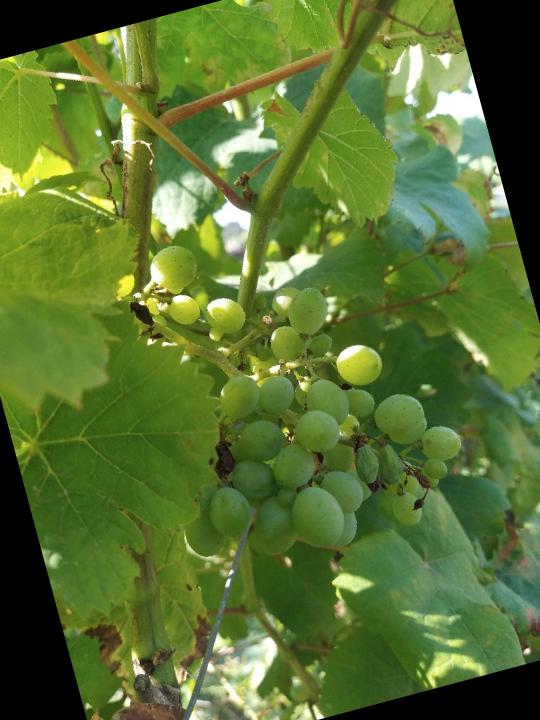grape: (108, 181, 484, 591)
